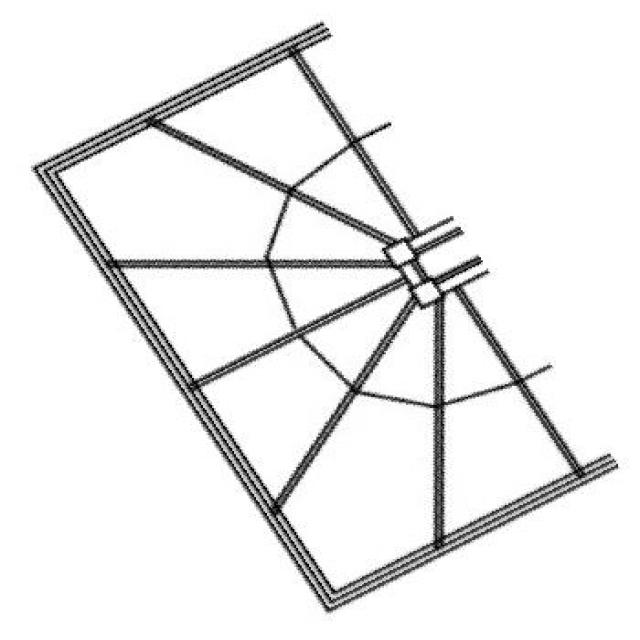stair: (29, 20, 613, 618)
